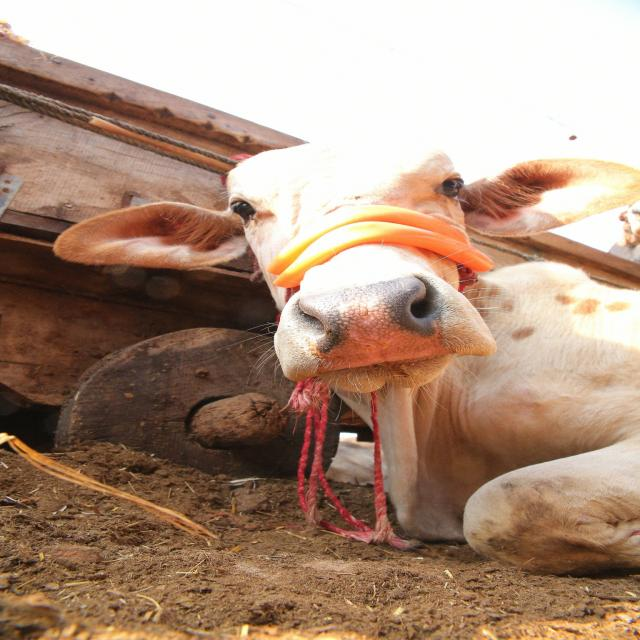muzzles: (278, 274, 471, 374)
